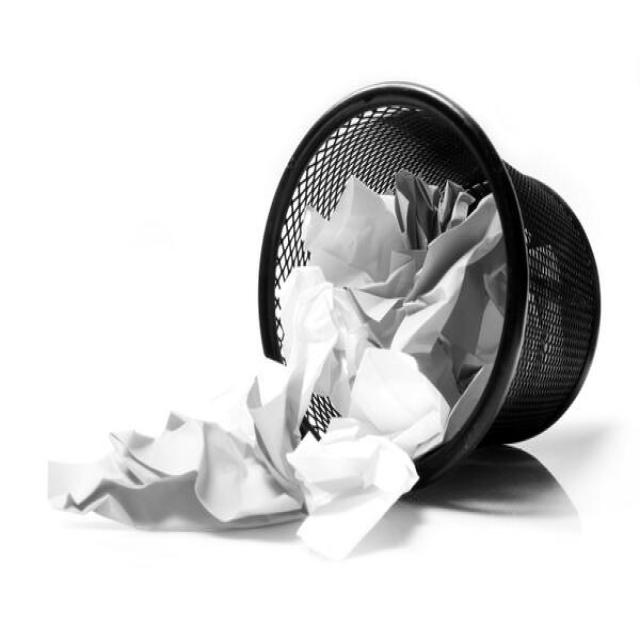Kertas: (42, 401, 315, 565), (308, 432, 440, 552), (265, 253, 352, 404), (363, 322, 452, 441), (321, 170, 390, 278)
